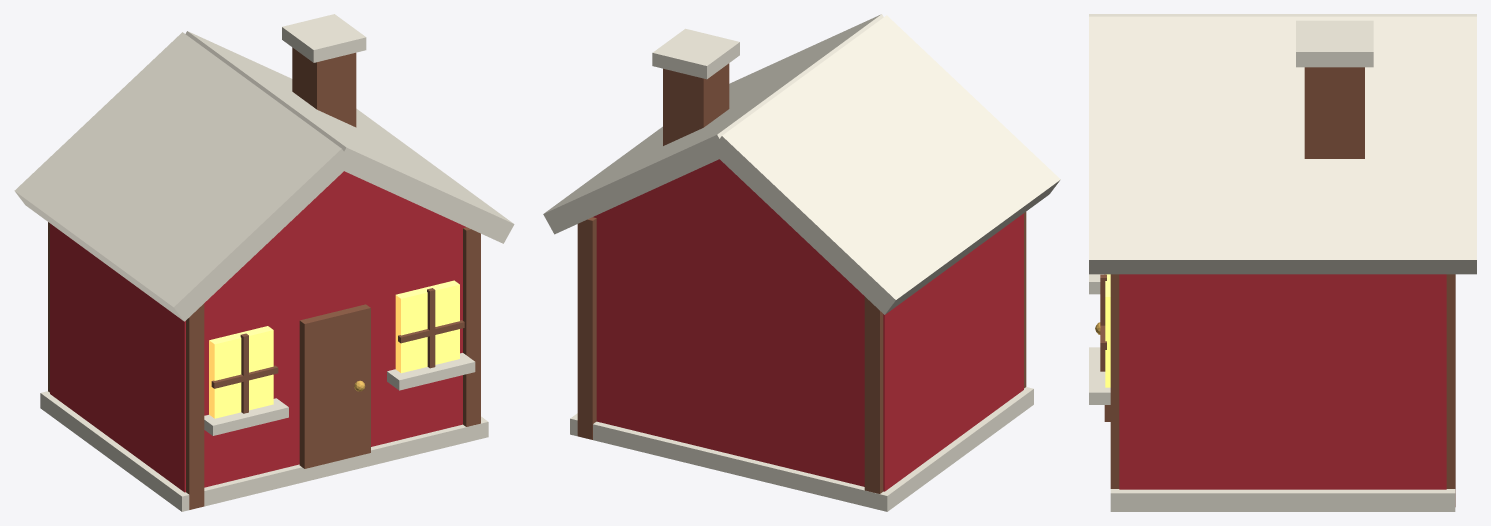
File: cottage_red.glb
The picture shows the model from 3 angles, left to right: view 1: azimuth 30°, elevation 25°; view 2: azimuth 150°, elevation 25°; view 3: azimuth 270°, elevation 25°; orthographic projection. The views are drawn at different scales.
Visible parts, largest first — view 1: christmas-cottage; view 2: christmas-cottage; view 3: christmas-cottage.
Boxes of the visible parts, x1=… form: christmas-cottage: x1=14, y1=14, x2=514, y2=511; christmas-cottage: x1=543, y1=14, x2=1060, y2=511; christmas-cottage: x1=1089, y1=14, x2=1476, y2=511.
Size of the model in its own units: 2.78 by 2.77 by 2.25.
